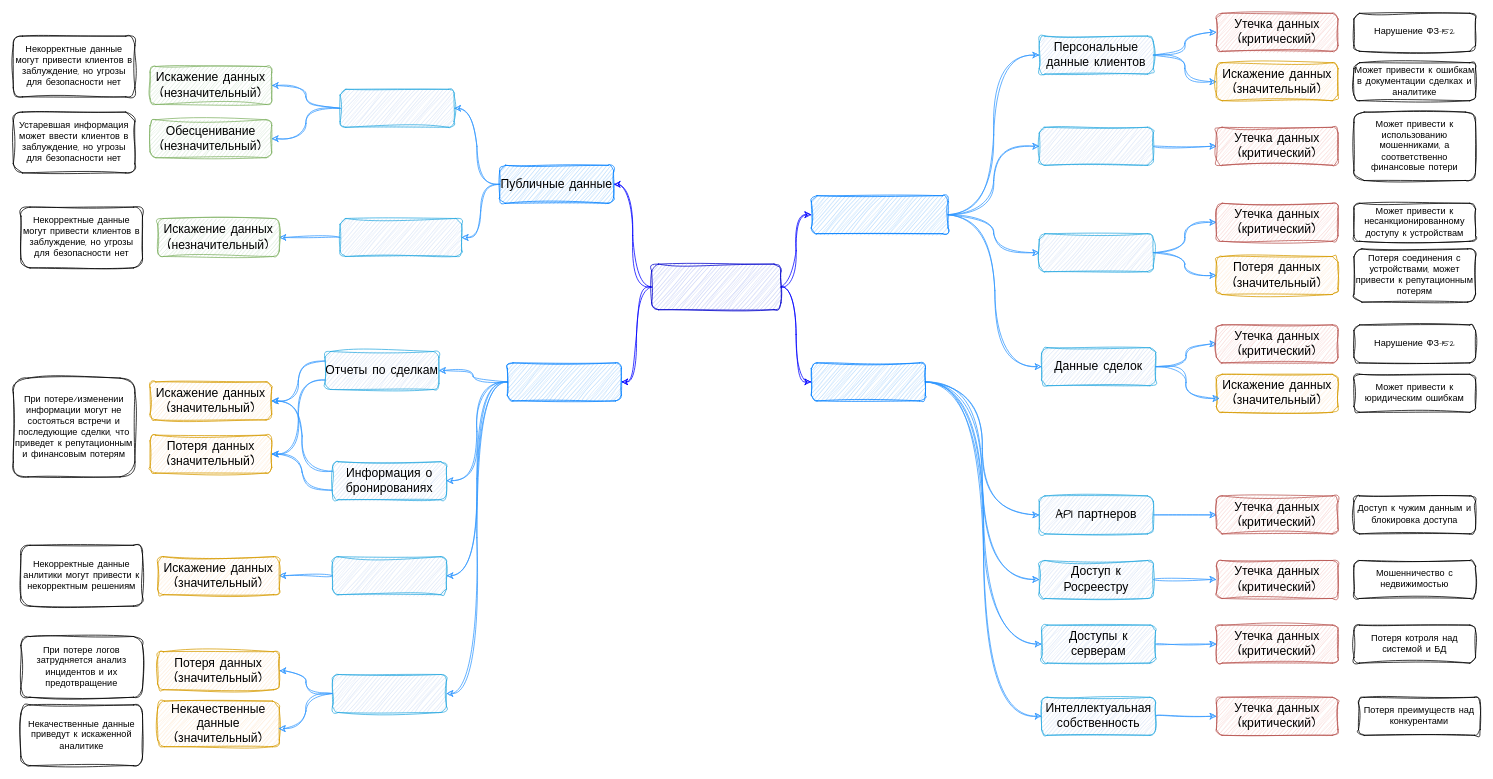
Image size: 1493x779. Some labels were removed from this diagram. The shapes that lost their labels are listed below. From the top down, each one's box as (x1, y1, x2, y2) in pixels, then its label:
(339, 89, 454, 127): Данные по объектам продажи
(1039, 127, 1153, 165): Данные платежей
(811, 195, 948, 234): Конфиденциальные данные
(339, 218, 462, 256): Информация от УК
(1039, 233, 1153, 272): Доступ к Умному дому
(651, 263, 781, 310): Безопасность данных
(507, 362, 621, 401): Внутренние данные
(811, 362, 925, 401): Секретные данные
(332, 556, 446, 595): Данные аналитик
(332, 674, 446, 712): Логи
